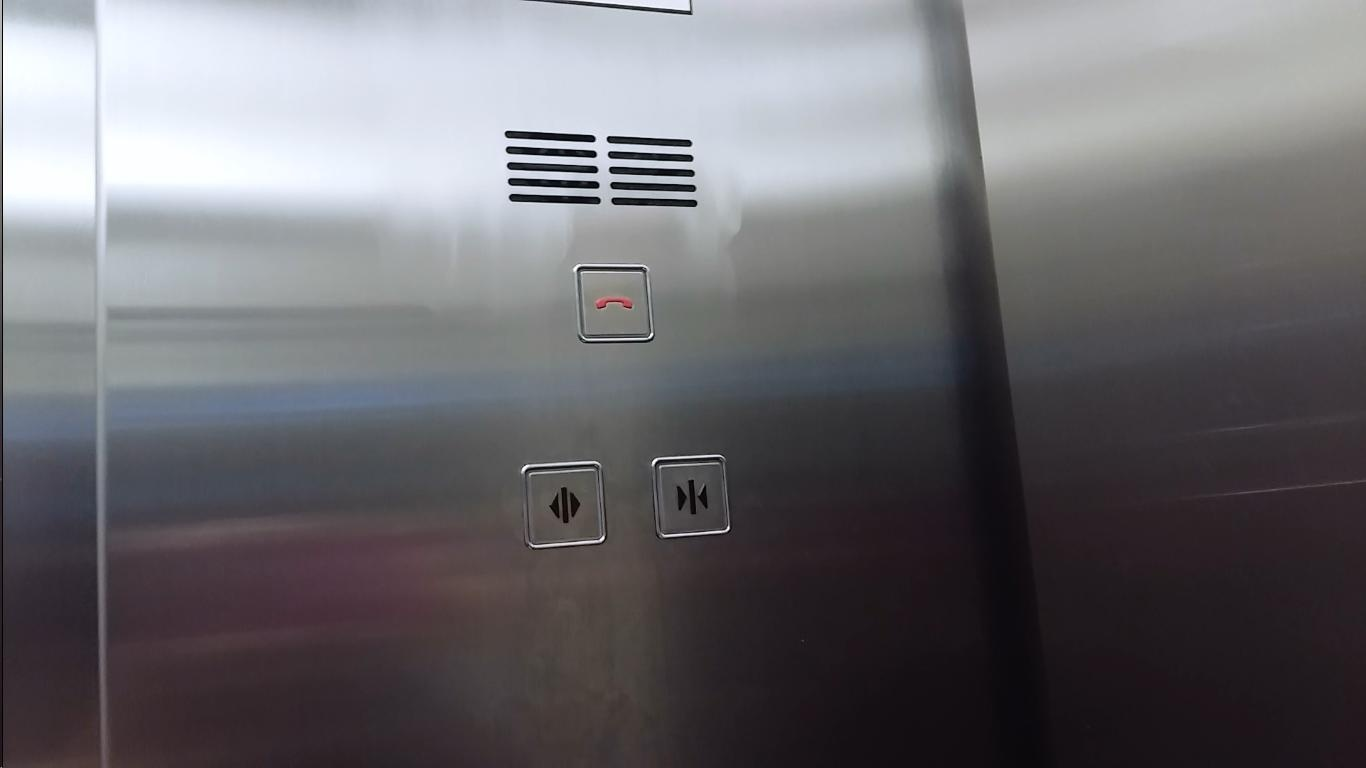call: (567, 256, 664, 348)
close: (647, 449, 735, 543)
open: (519, 457, 609, 555)
